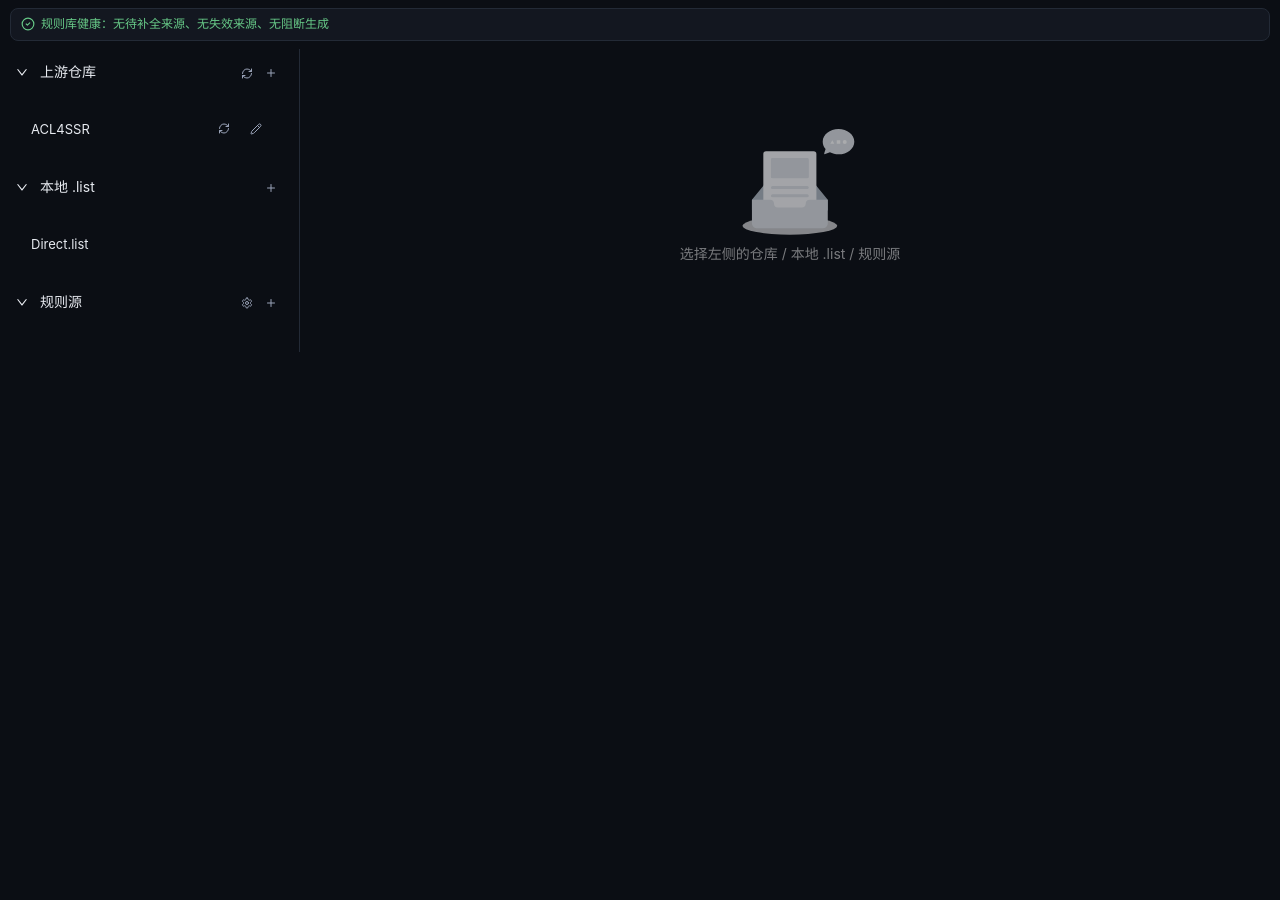
Scenario: repo management entry › opens the edit-repo modal for a declared vendor repo
Expected: the text "ACL4SSR" is shown, left=31, top=121, right=90, bottom=137
What coordinates should you click on to do the following:
click the button named "编辑 ACL4SSR"
I would click on:
 (256, 129)
Its box is left=244, top=117, right=268, bottom=141.
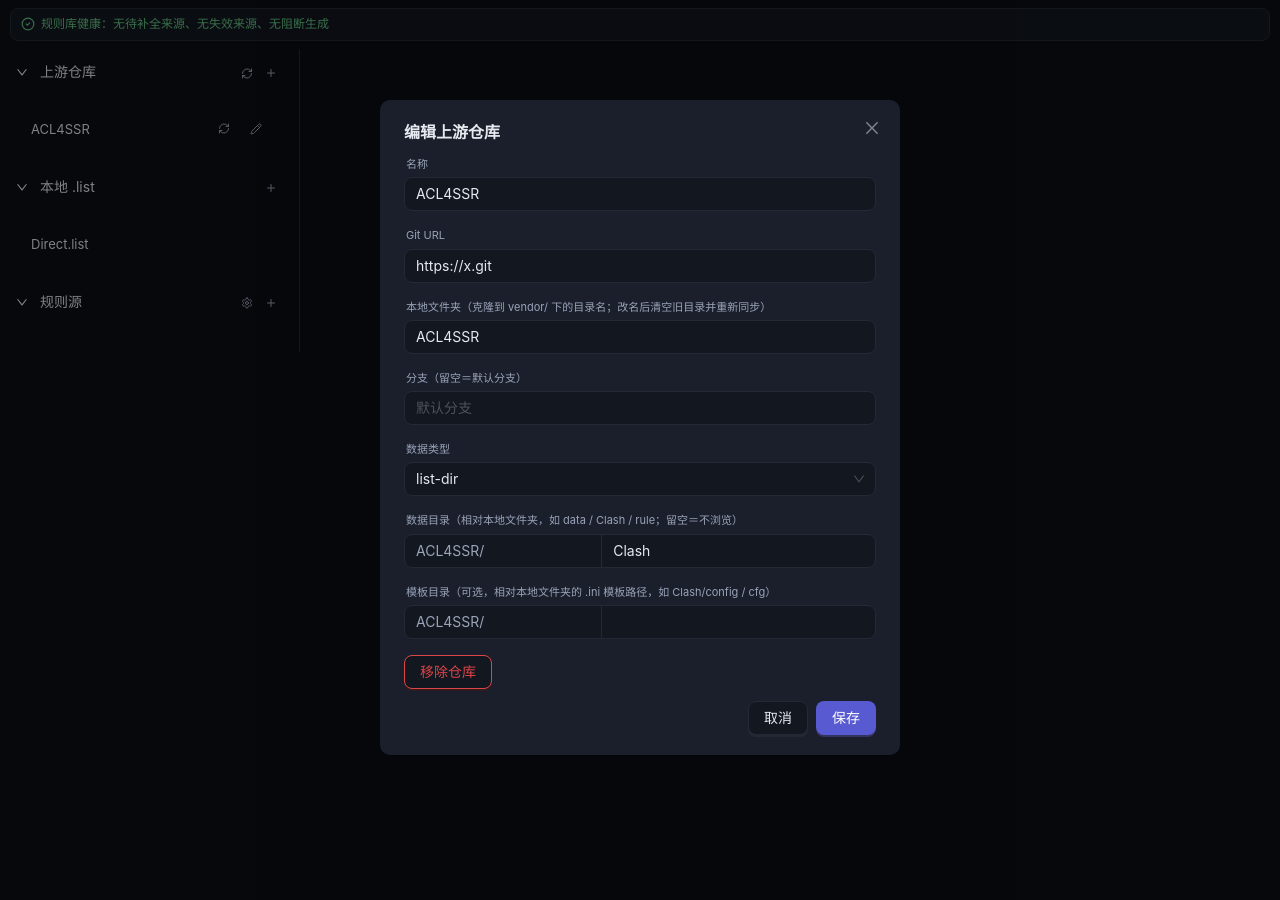
Expected: the dialog "编辑上游仓库" is shown, left=380, top=100, right=900, bottom=779
